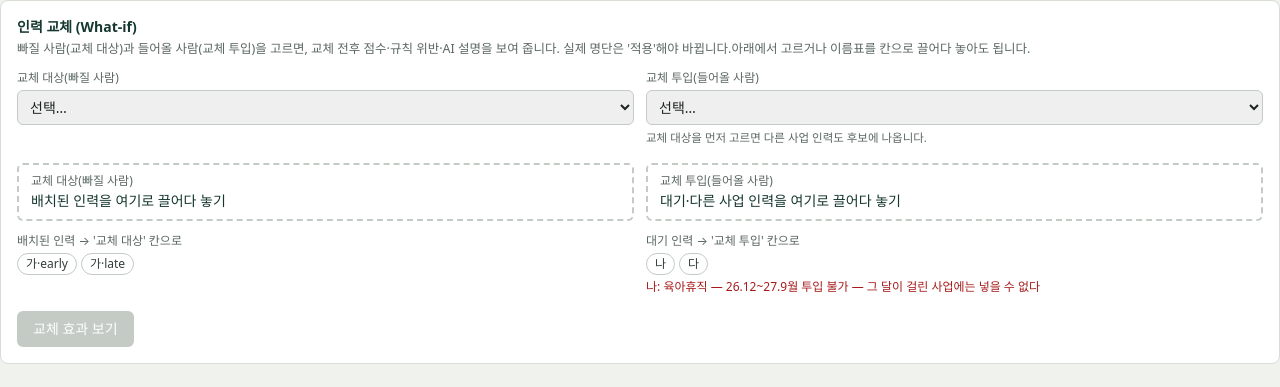
Scenario: 투입 불가 인력 › 이미 고른 사람이 새 대상 사업과 겹치면 브리핑을 막고 이유를 보인다
Select "가 (중급) · early" in the dropdown labelled "교체 대상" at (326, 108), box [17, 90, 634, 125]
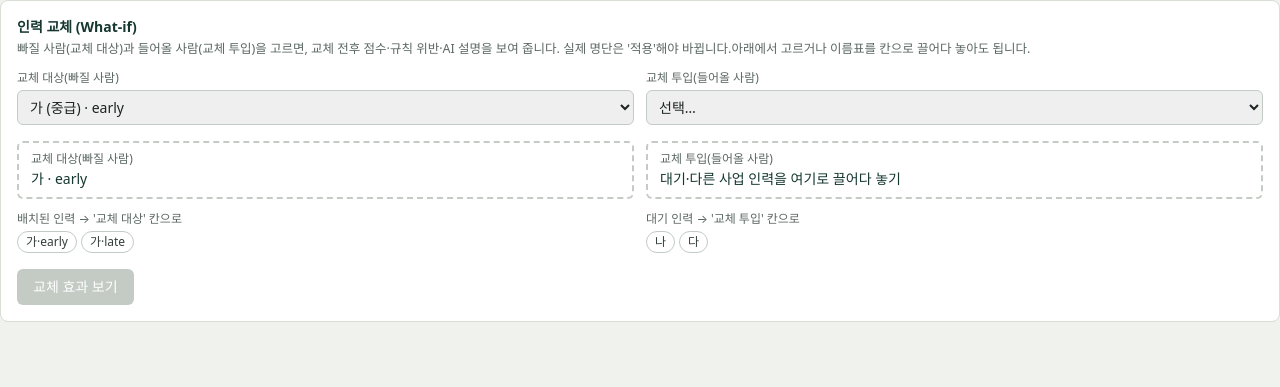
Select "나 (고급)" in the dropdown labelled "교체 투입" at (954, 108), box [646, 90, 1263, 125]
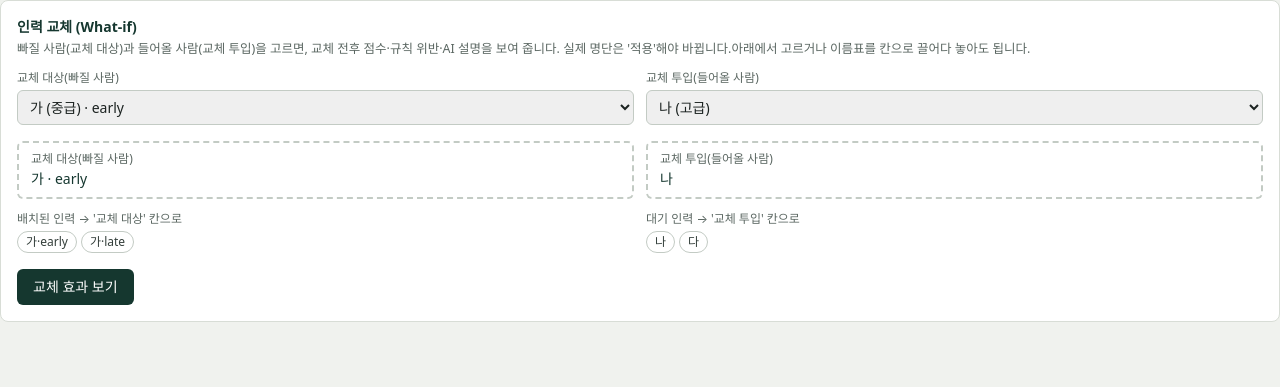
Select "가 (중급) · late" in the dropdown labelled "교체 대상" at (326, 108), box [17, 90, 634, 125]
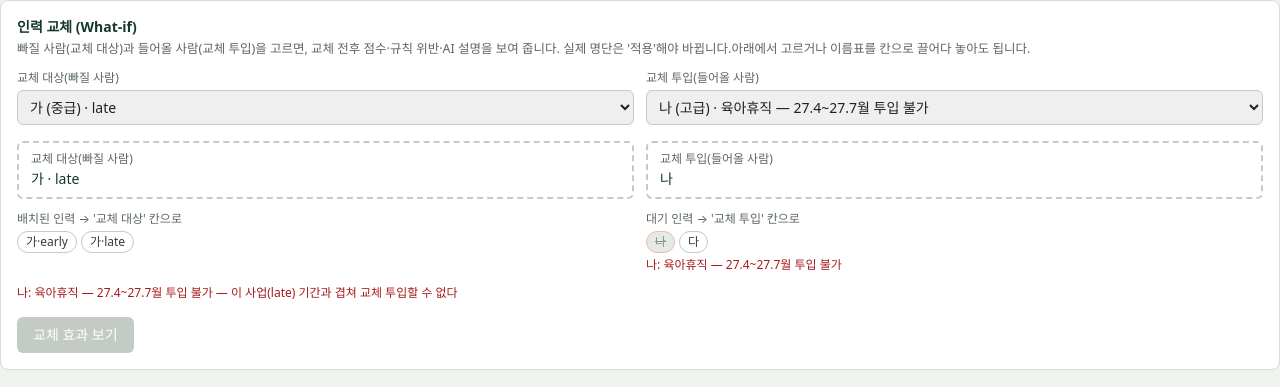
Expected: the message shows "교체 투입할 수 없다", [292, 284, 458, 301]
Expected: the button "교체 효과 보기" is disabled, [17, 317, 134, 353]
